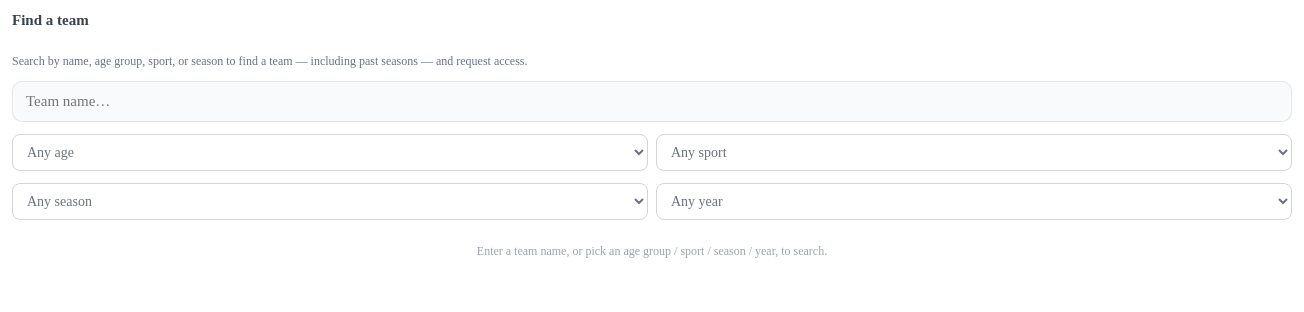
Test: TeamSearch — loading, populated, empty › empty result set shows "No teams found" with a real next step, not a dead end
The image size is (1304, 312).
Step 1. Type "Nonexistent" into the search field labelled "Team name…" → coordinates (652, 101), box [12, 81, 1292, 122]
Wait 400 ms
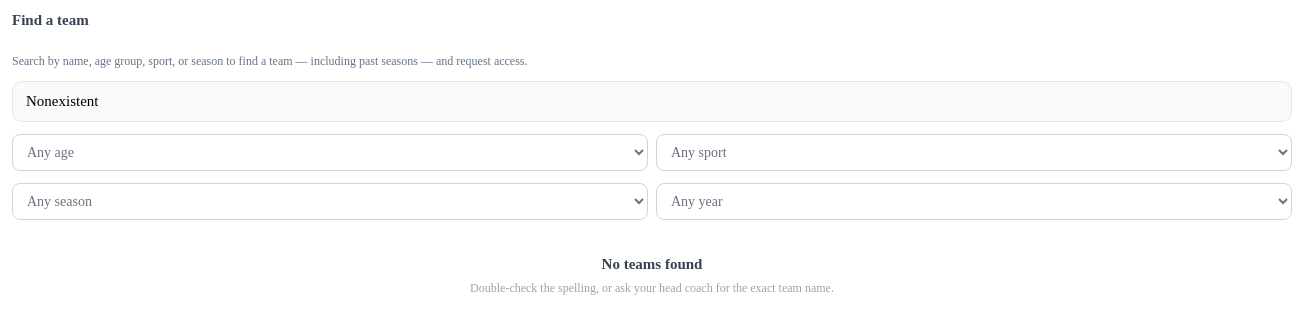
expect the text "No teams found" is shown: met, box [602, 256, 702, 273]
expect the text "ask your head coach" is shown: met, box [470, 281, 834, 295]
